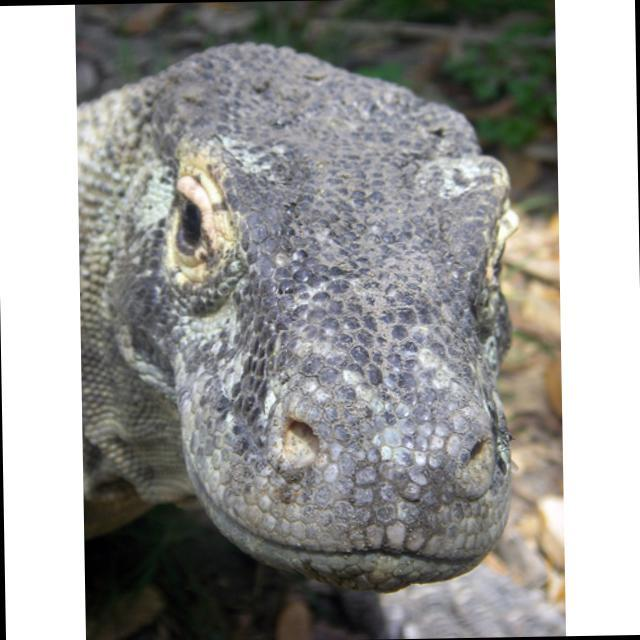KomodoDragon: (76, 31, 562, 640)
